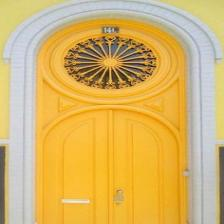yellow: (37, 20, 187, 224), (0, 0, 70, 139), (215, 56, 224, 140), (218, 128, 224, 140)
